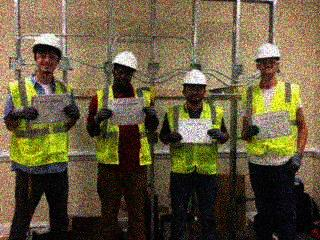helmet: (30, 32, 63, 76), (110, 49, 139, 88), (253, 40, 281, 78), (180, 68, 208, 103)
